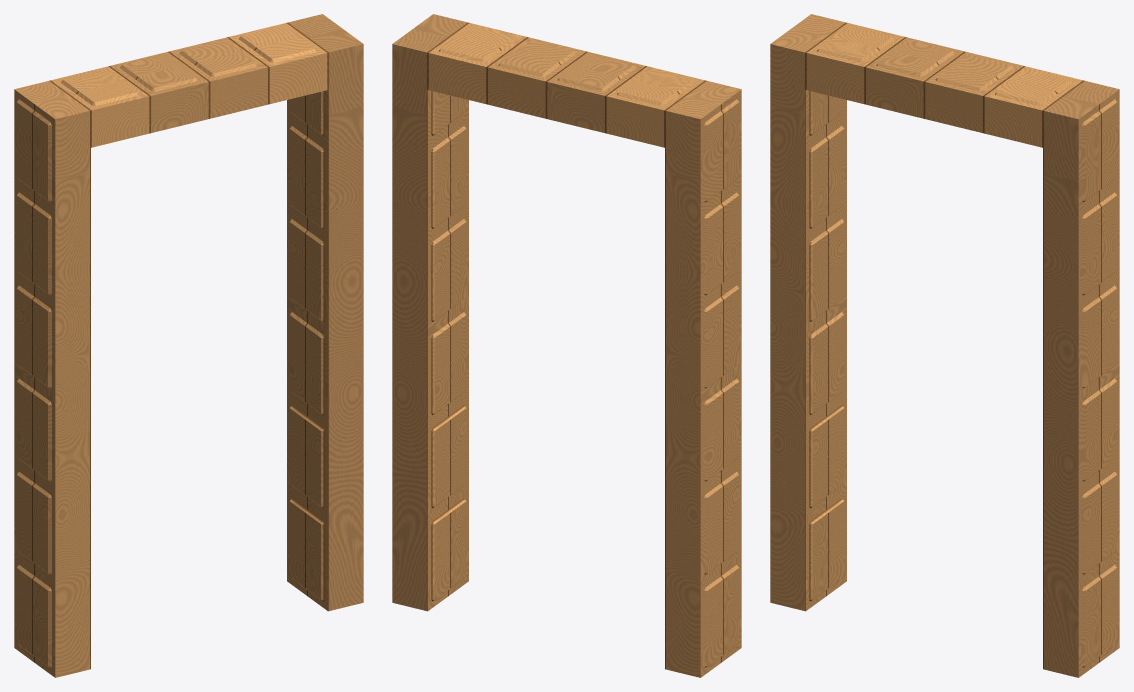
Rendered from Kit_Wood_DoorFrame.fbx.
The picture shows the model from 3 angles, left to right: view 1: azimuth 30°, elevation 25°; view 2: azimuth 150°, elevation 25°; view 3: azimuth 330°, elevation 25°; orthographic projection.
Parts seen in each view (by area): view 1: Kit_Wood_DoorFrame_LOD0; view 2: Kit_Wood_DoorFrame_LOD0; view 3: Kit_Wood_DoorFrame_LOD0.
Part boxes in pixels (bbox=[...]): Kit_Wood_DoorFrame_LOD0: bbox=[14, 14, 363, 677]; Kit_Wood_DoorFrame_LOD0: bbox=[392, 14, 741, 677]; Kit_Wood_DoorFrame_LOD0: bbox=[770, 14, 1119, 677].
Size of what is drawn, in the model's own units: 1.32 by 2.26 by 0.3.
